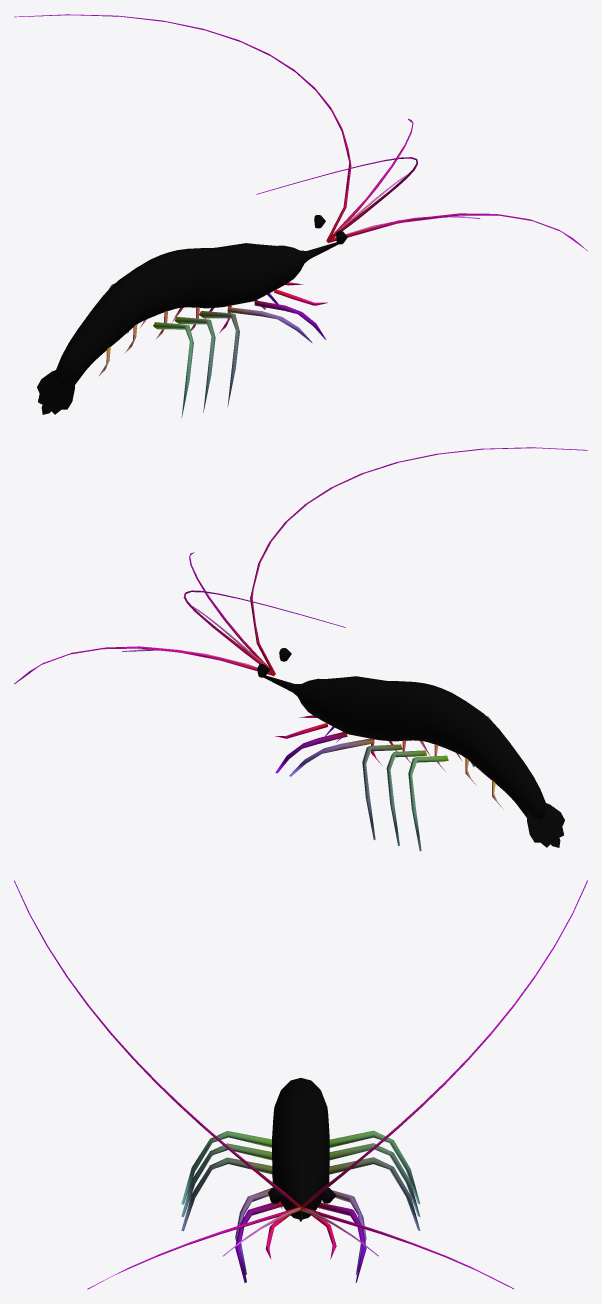
File: skunk_shrimp_lod1.glb
The picture shows the model from 3 angles, top to bottom: view 1: azimuth 30°, elevation 25°; view 2: azimuth 150°, elevation 25°; view 3: azimuth 270°, elevation 25°; orthographic projection. The views are drawn at different scales.
Parts seen in each view (by area): view 1: Body, Legs, Antennae; view 2: Body, Legs, Antennae; view 3: Legs, Body, Antennae.
Boxes of the visible parts, left/top/right/bottom form: Body: left=37, top=242, right=338, bottom=414; Legs: left=98, top=282, right=327, bottom=418; Antennae: left=14, top=14, right=587, bottom=251; Body: left=263, top=675, right=564, bottom=847; Legs: left=275, top=715, right=503, bottom=851; Antennae: left=14, top=447, right=587, bottom=684; Legs: left=181, top=1130, right=420, bottom=1282; Body: left=272, top=1078, right=329, bottom=1221; Antennae: left=14, top=880, right=587, bottom=1289.
Bounding box in the file's own units: 1.46 × 0.8811 × 1.35.
2 materials, 1 textured.
